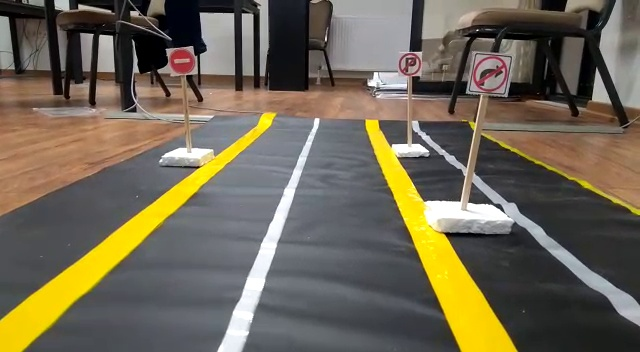girisi_olmayan_yol: (163, 47, 195, 74)
park_yapilmaz: (397, 54, 423, 77)
saga_donulmez: (470, 51, 509, 97)
